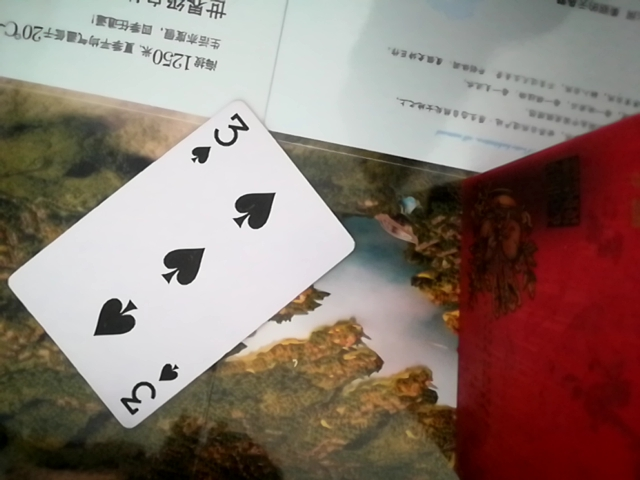ht 3: (4, 107, 355, 426)
